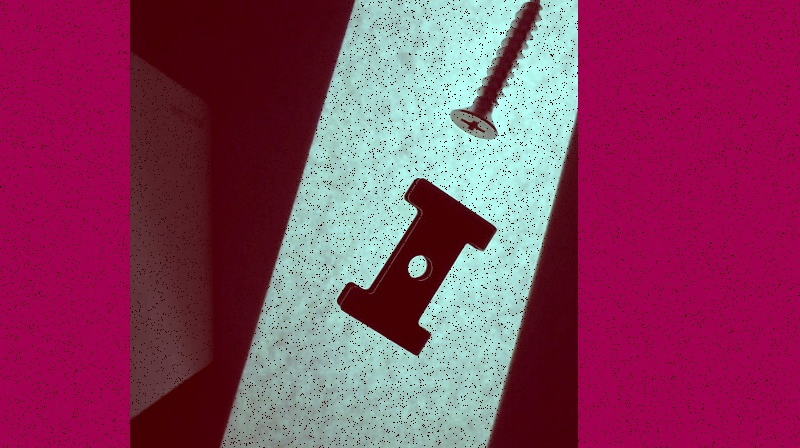O002: (336, 174, 496, 355)
S001: (446, 0, 545, 140)
